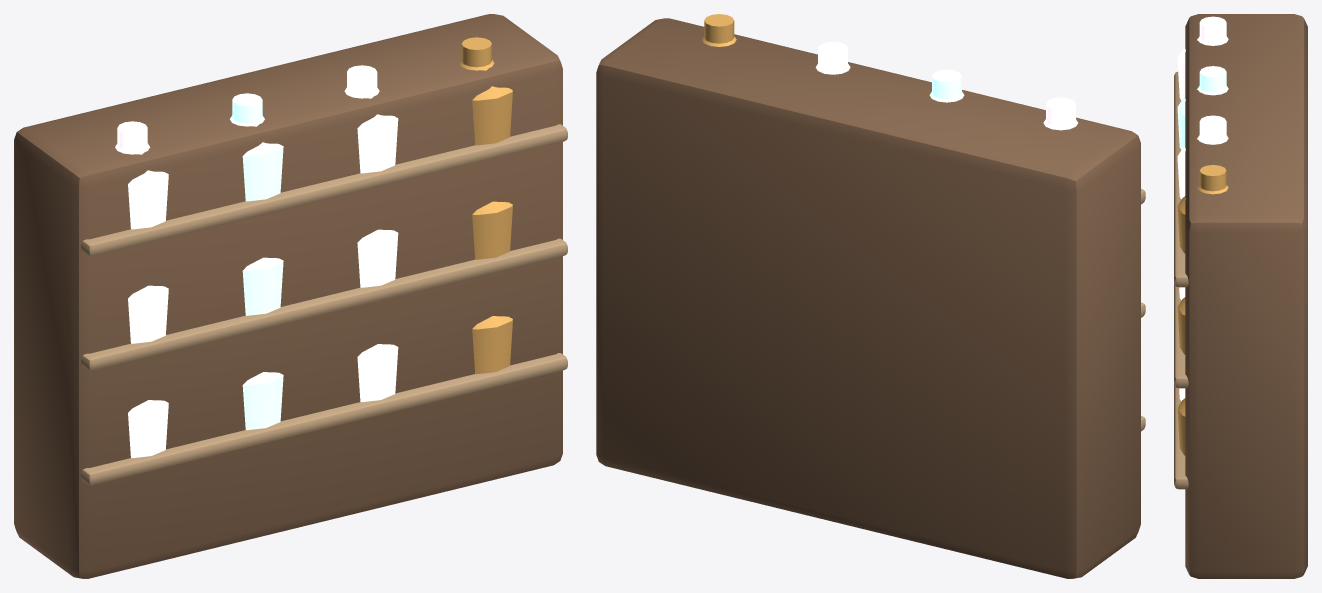
Rendered from Shelf_Potion.fbx.
3 renders of one model, left to right at view 1: azimuth 30°, elevation 25°; view 2: azimuth 150°, elevation 25°; view 3: azimuth 270°, elevation 25°, orthographic. The views are drawn at different scales.
Visible parts, largest first — view 1: Shelf_Potion; view 2: Shelf_Potion; view 3: Shelf_Potion.
Boxes of the visible parts, x1,y1,x2,y2 form: Shelf_Potion: (14, 14, 567, 578); Shelf_Potion: (596, 14, 1145, 578); Shelf_Potion: (1174, 14, 1307, 578).
Bounding box in the file's own units: 4.5 × 3.77 × 1.2.
